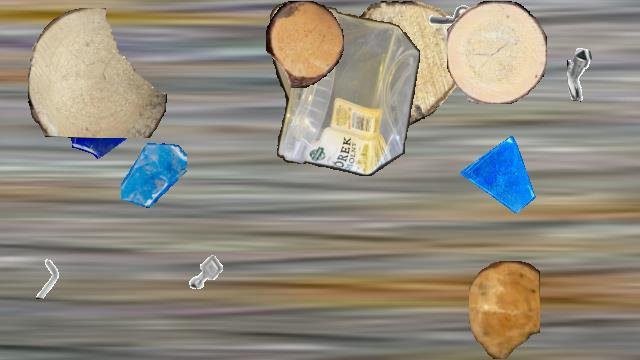glass: (60, 78, 142, 160), (460, 136, 536, 212), (121, 142, 187, 208)
metal: (414, 1, 476, 63), (567, 46, 623, 102), (181, 247, 231, 297), (26, 257, 68, 299)
plastic: (270, 1, 420, 175)
wood: (28, 8, 166, 138), (324, 1, 464, 127), (447, 1, 547, 103), (469, 261, 539, 359), (266, 1, 344, 87)
